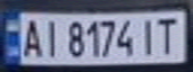1: (81, 17, 100, 57)
4: (115, 16, 139, 57)
7: (97, 17, 118, 57)
8: (63, 17, 84, 57)
A: (18, 16, 45, 58)
I: (39, 16, 63, 58), (136, 15, 160, 56)
T: (154, 13, 184, 55)
